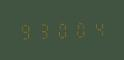four: (86, 19, 102, 38)
nine: (18, 21, 34, 40)
three: (35, 20, 51, 40)
zero: (69, 19, 85, 39), (52, 20, 68, 39)
